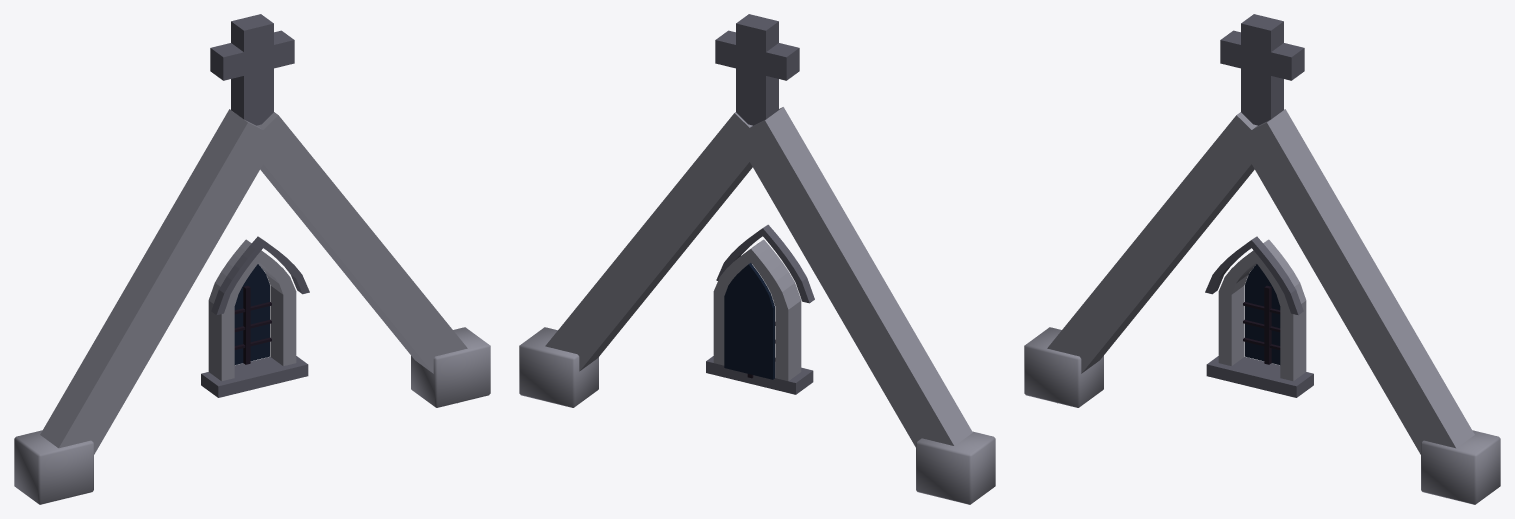
Rendered from kit_church_gable_w2.glb.
3 views of the same model, side by side, from view 1: azimuth 30°, elevation 25°; view 2: azimuth 150°, elevation 25°; view 3: azimuth 330°, elevation 25° (orthographic).
Visible parts, largest first — view 1: kit_church_gable_w2; view 2: kit_church_gable_w2; view 3: kit_church_gable_w2.
Part boxes in pixels (box(x1,y1,x2,y2)): kit_church_gable_w2: box(14, 14, 490, 504); kit_church_gable_w2: box(519, 14, 995, 504); kit_church_gable_w2: box(1024, 14, 1500, 504).
Bounding box in the file's own units: 2.42 × 2.15 × 0.24.
